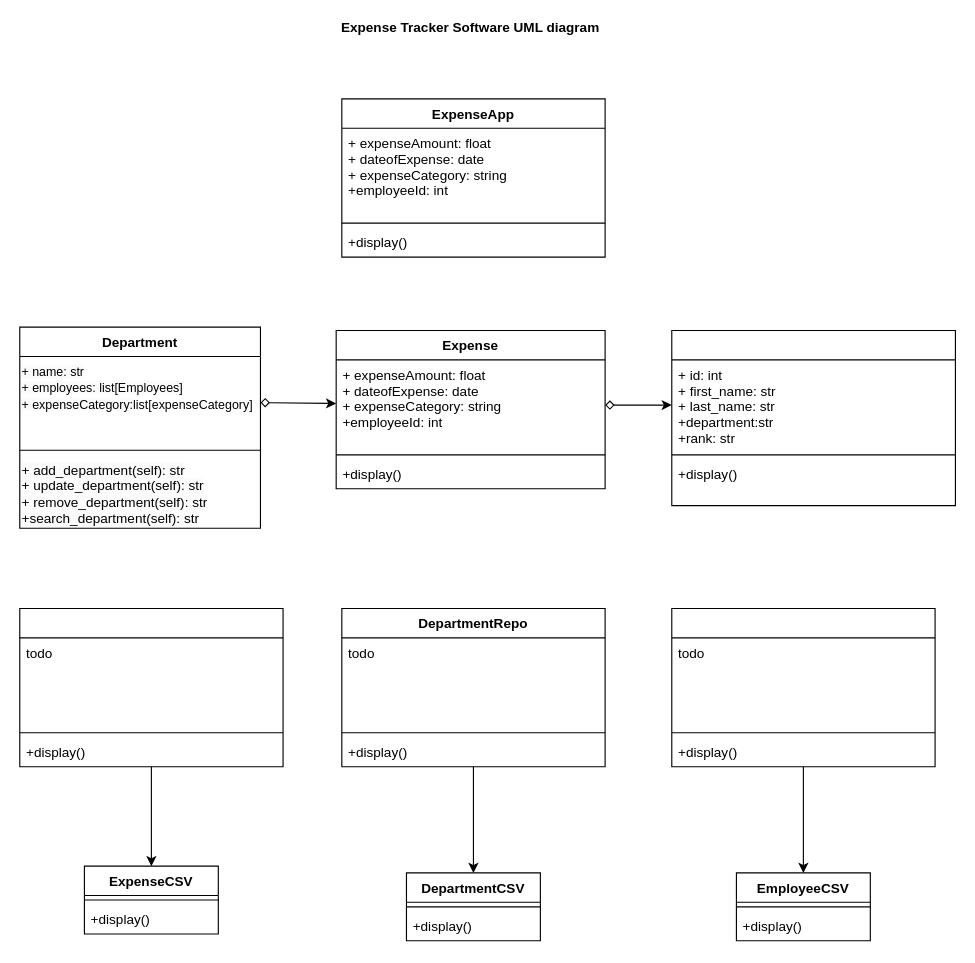
This 975x963 diagram has some shape labels left out. The shapes that lost their labels are listed below. From the top down, each one's box as (x1, y1, x2, y2) in pixels, then its label:
(671, 329, 955, 506): Employee
(19, 607, 283, 767): ExpenseRepo
(671, 607, 935, 767): EmployeeRepo
